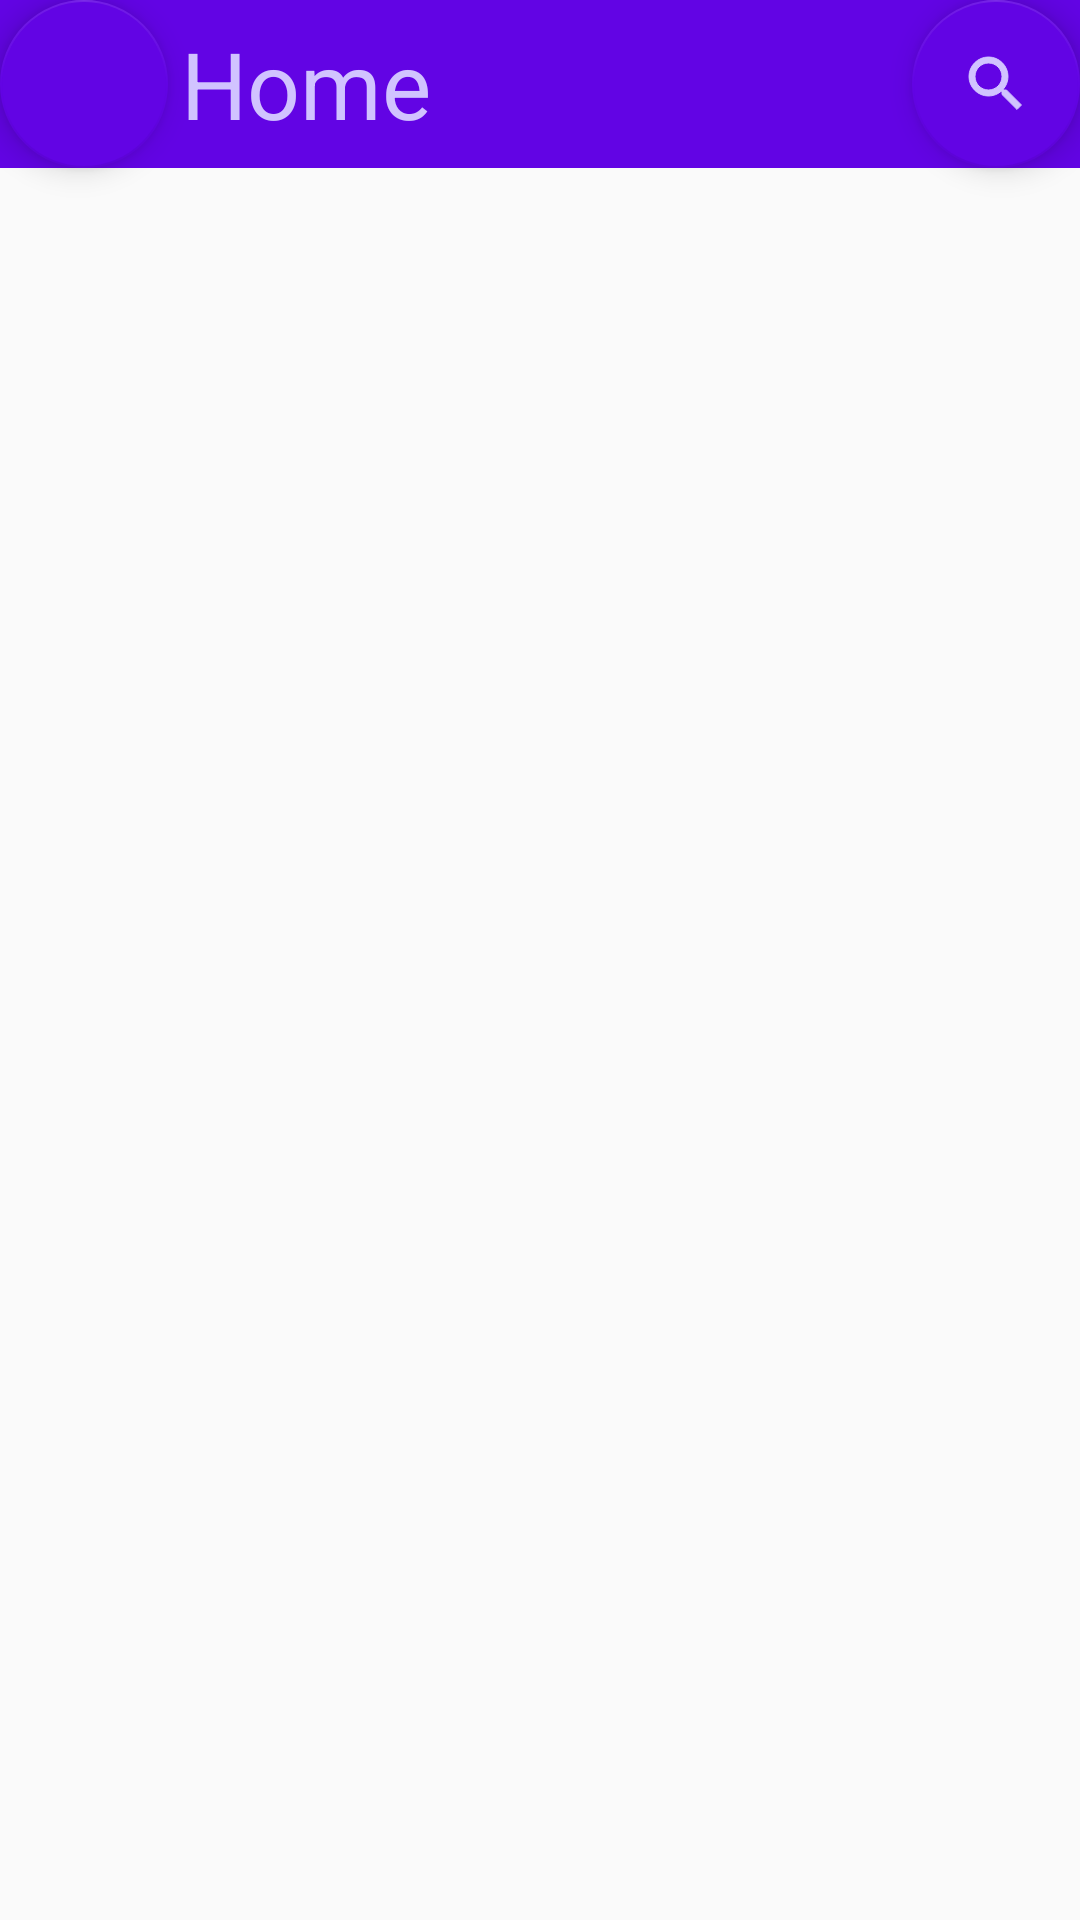

Icon bounding boxes for this 1080×1920 phone screenshot, format (x1, y1, x2, y2):
search: (968, 0, 1080, 162)
